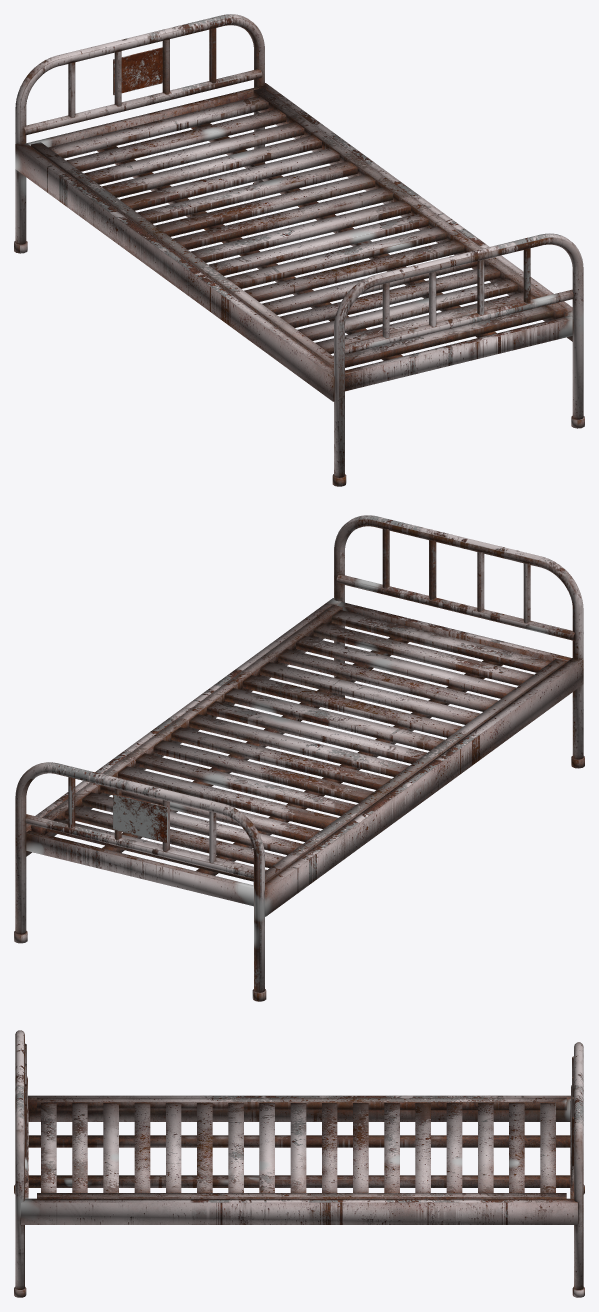
Rendered from hospital_bed.glb.
3 views of the same model, one above another, from view 1: azimuth 30°, elevation 25°; view 2: azimuth 150°, elevation 25°; view 3: azimuth 270°, elevation 25° (orthographic). The views are drawn at different scales.
Visible parts, largest first — view 1: Cube.001; view 2: Cube.001; view 3: Cube.001.
Boxes of the visible parts, <box> form: Cube.001: <box>14,14,584,486</box>; Cube.001: <box>14,515,584,1001</box>; Cube.001: <box>14,1030,584,1297</box>.
Size of the model in its own units: 0.8879 by 0.6755 by 2.
1 material, 1 textured.
